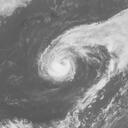cyclone: (36, 23, 105, 84)
